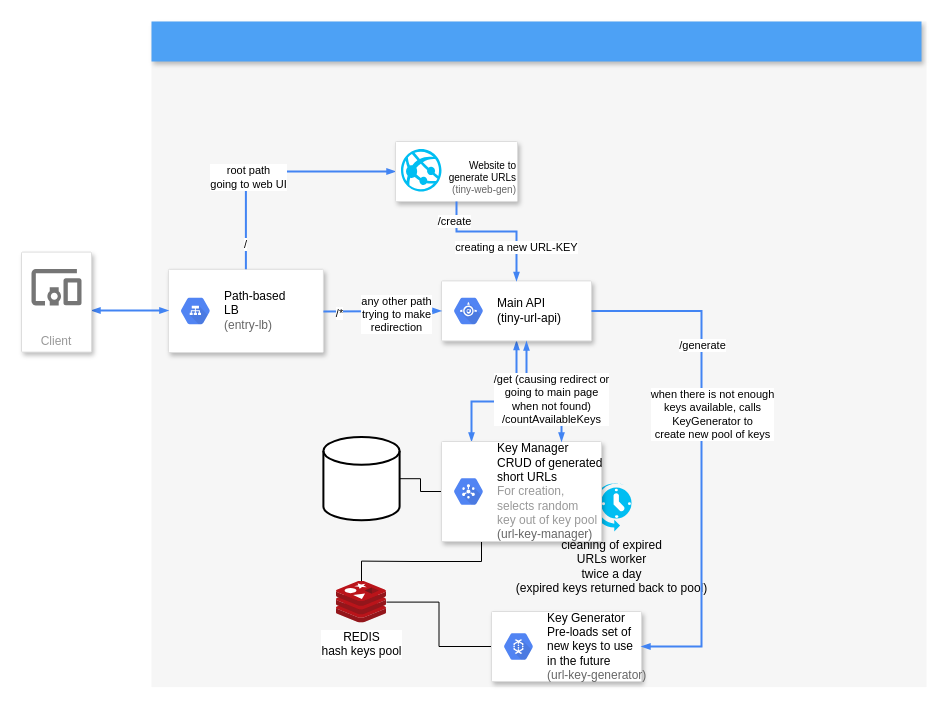
The diagram is 945 pixels wide and 706 high, and some of its shapes have lost their labels. Here are the shapes that lost their labels. From the top down, the centre of each, then its label:
At (x=537, y=42): "Architecture: Tiny-url excercise".
At (x=361, y=478): "MongoDB short url entities".
